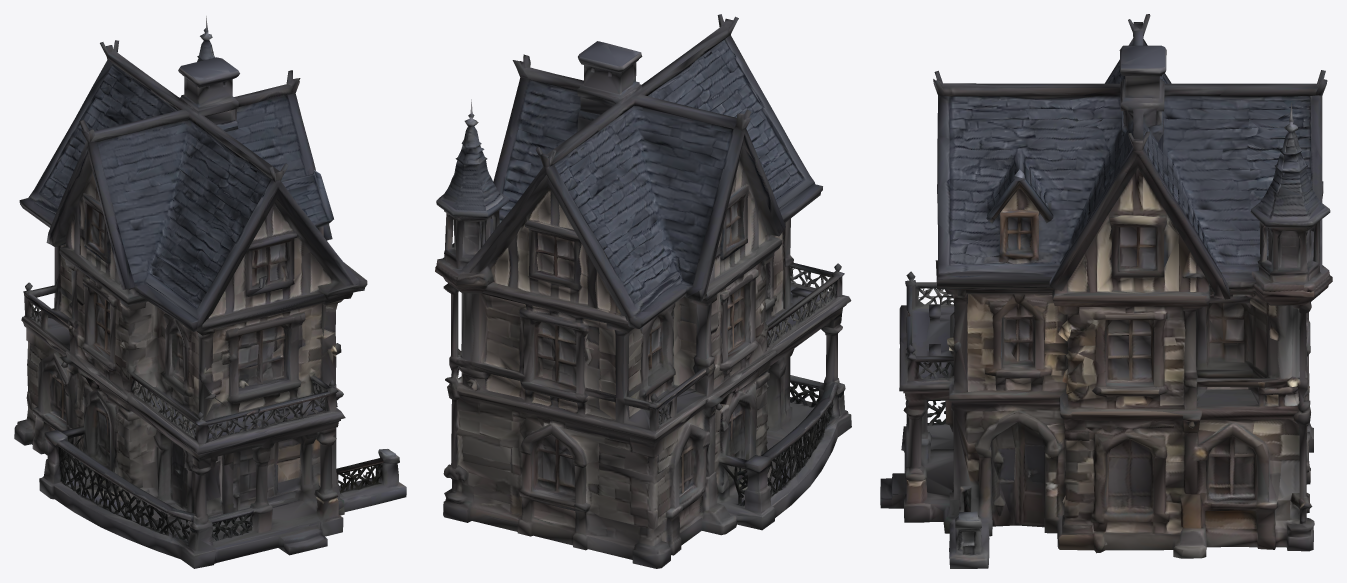
File: bld_goth_townhouse2f.fbx
3 renders of one model, left to right at view 1: azimuth 30°, elevation 25°; view 2: azimuth 150°, elevation 25°; view 3: azimuth 270°, elevation 25°, orthographic. The views are drawn at different scales.
Visible parts, largest first — view 1: bld_goth_townhouse2f_LOD0; view 2: bld_goth_townhouse2f_LOD0; view 3: bld_goth_townhouse2f_LOD0.
Boxes of the visible parts, left/top/right/bottom form: bld_goth_townhouse2f_LOD0: left=14, top=16, right=406, bottom=568; bld_goth_townhouse2f_LOD0: left=435, top=14, right=851, bottom=568; bld_goth_townhouse2f_LOD0: left=880, top=14, right=1332, bottom=568.
Size of what is drawn, in the model's own units: 0.6985 by 0.9781 by 0.8923.
